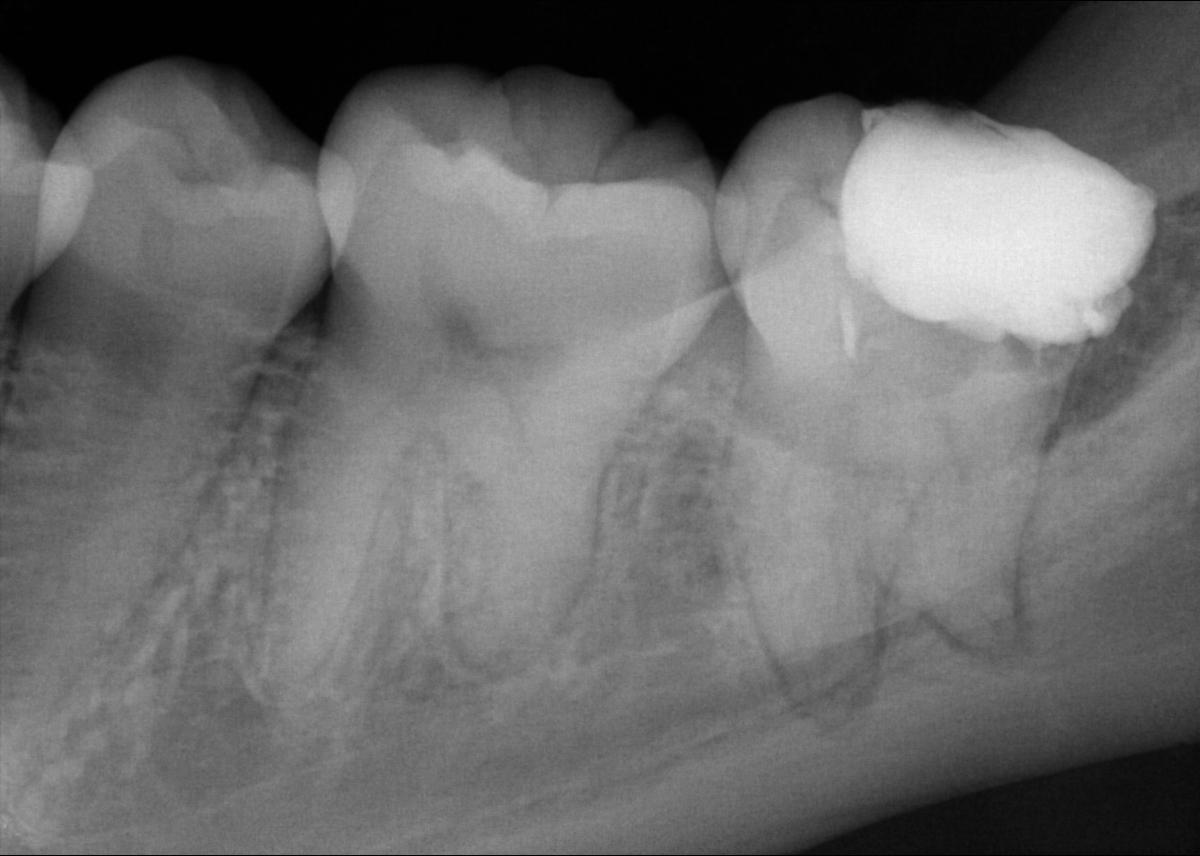Furcation Involvement: (770, 587, 893, 734), (918, 554, 1037, 670)
